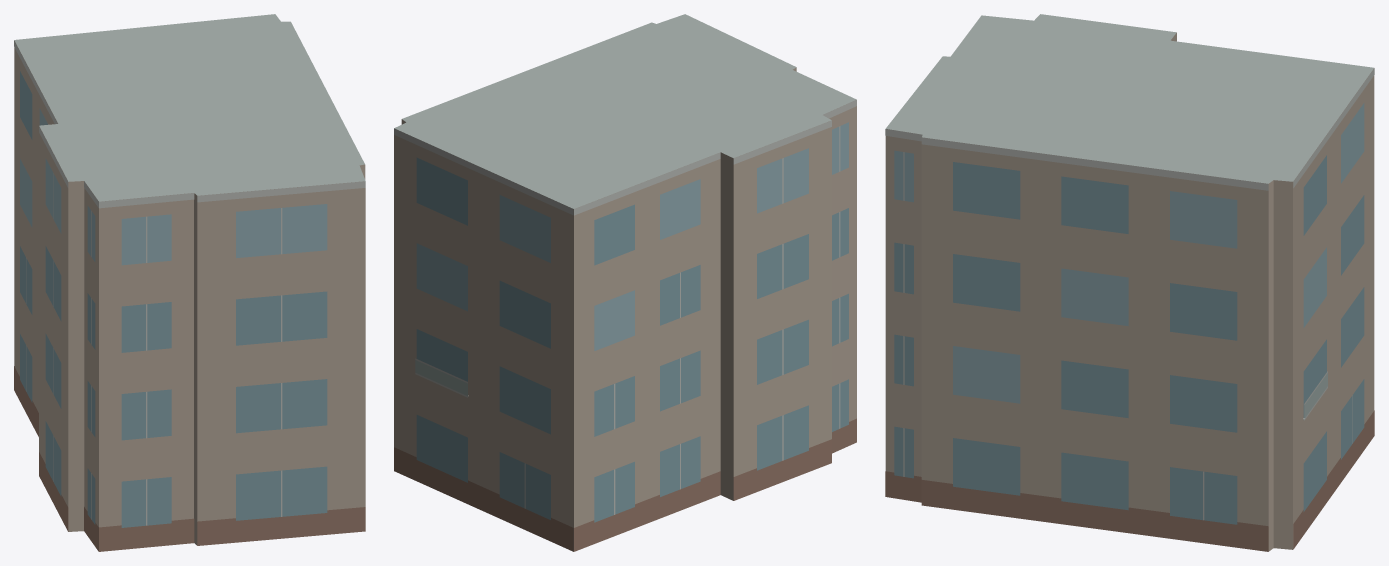
The model's file is survey-upis-32539410.glb.
3 views of the same model, side by side, from view 1: azimuth 30°, elevation 25°; view 2: azimuth 150°, elevation 25°; view 3: azimuth 270°, elevation 25° (orthographic). The views are drawn at different scales.
Visible parts, largest first — view 1: survey-upis-32539410.tmp; view 2: survey-upis-32539410.tmp; view 3: survey-upis-32539410.tmp.
Boxes of the visible parts, x1,y1,x2,y2 form: survey-upis-32539410.tmp: [14, 14, 365, 551]; survey-upis-32539410.tmp: [394, 14, 856, 551]; survey-upis-32539410.tmp: [885, 14, 1374, 551].
Size of the model in its own units: 12.67 by 12.8 by 15.42.
